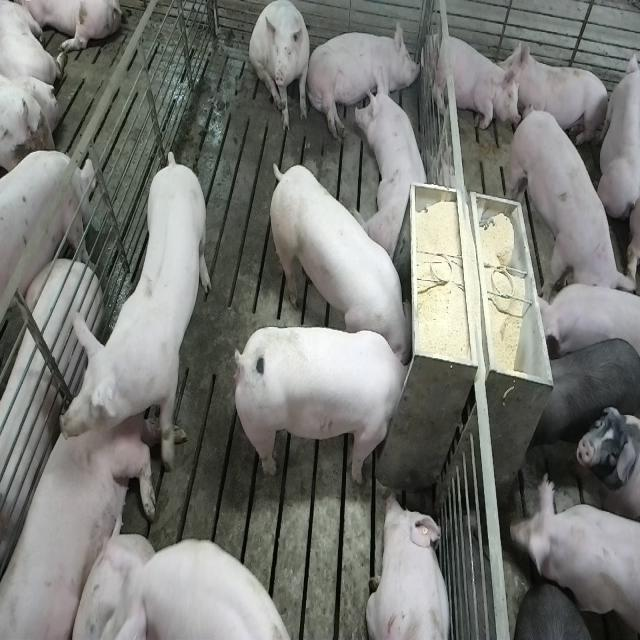Feeding: (227, 318, 423, 492), (266, 152, 413, 361)
Lateral_lying: (2, 373, 186, 640), (307, 25, 423, 150)
Sitting: (246, 0, 311, 130)
Standing: (61, 145, 216, 486), (504, 97, 619, 276), (0, 135, 96, 342), (103, 534, 290, 640), (507, 472, 640, 620), (517, 336, 640, 439), (527, 271, 640, 359), (573, 399, 640, 522)
Sternal_lying: (0, 250, 104, 562), (353, 62, 432, 257), (494, 34, 610, 155), (362, 489, 453, 640), (419, 32, 520, 140)
